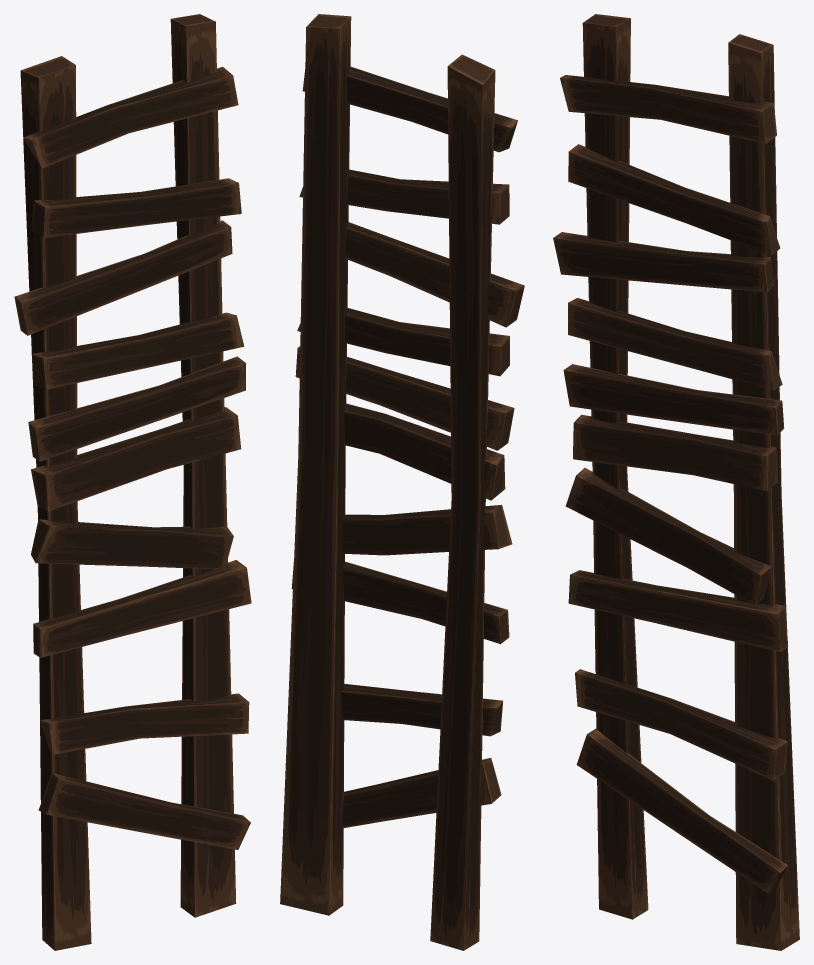
Rendered from SM_PROP_ladder_dungeon_02.fbx.
3 views of the same model, side by side, from view 1: azimuth 30°, elevation 25°; view 2: azimuth 150°, elevation 25°; view 3: azimuth 330°, elevation 25° (orthographic).
Visible parts, largest first — view 1: SM_PROP_ladder_dungeon_02; view 2: SM_PROP_ladder_dungeon_02; view 3: SM_PROP_ladder_dungeon_02.
Part boxes in pixels (x1,y1,x2,y2): SM_PROP_ladder_dungeon_02: (14,14,251,950); SM_PROP_ladder_dungeon_02: (280,14,524,950); SM_PROP_ladder_dungeon_02: (553,14,799,950).
Size of the model in its own units: 108 by 406 by 21.77.
